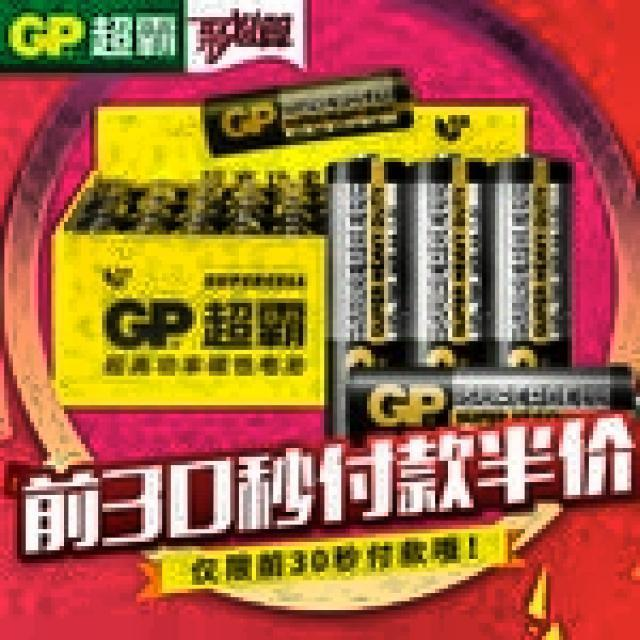battery: (330, 156, 630, 437)
